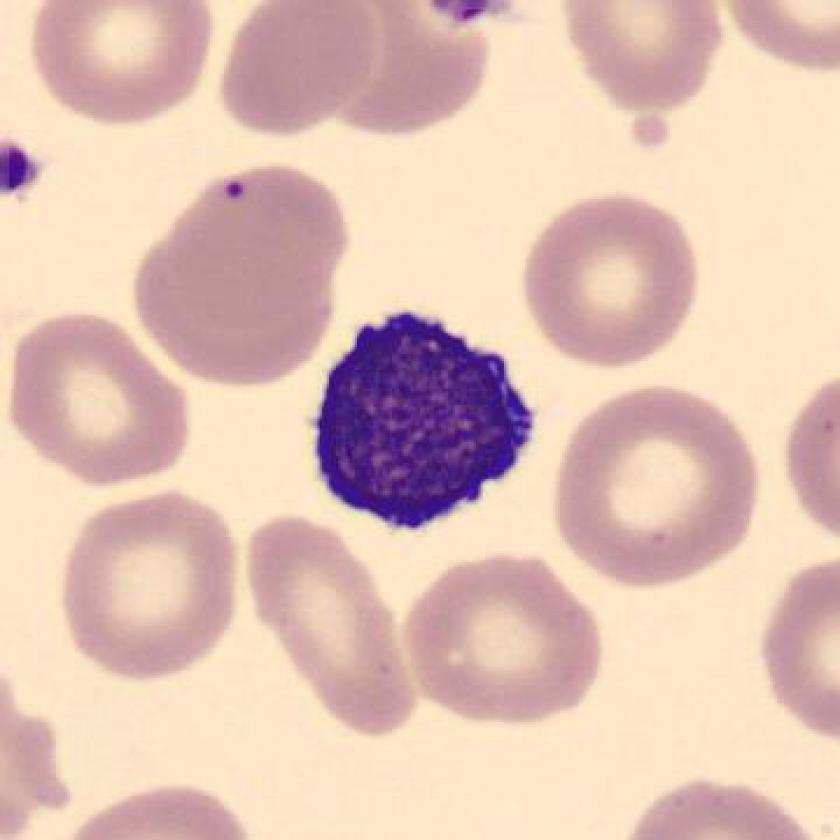lymphocyte: (295, 295, 547, 545)
